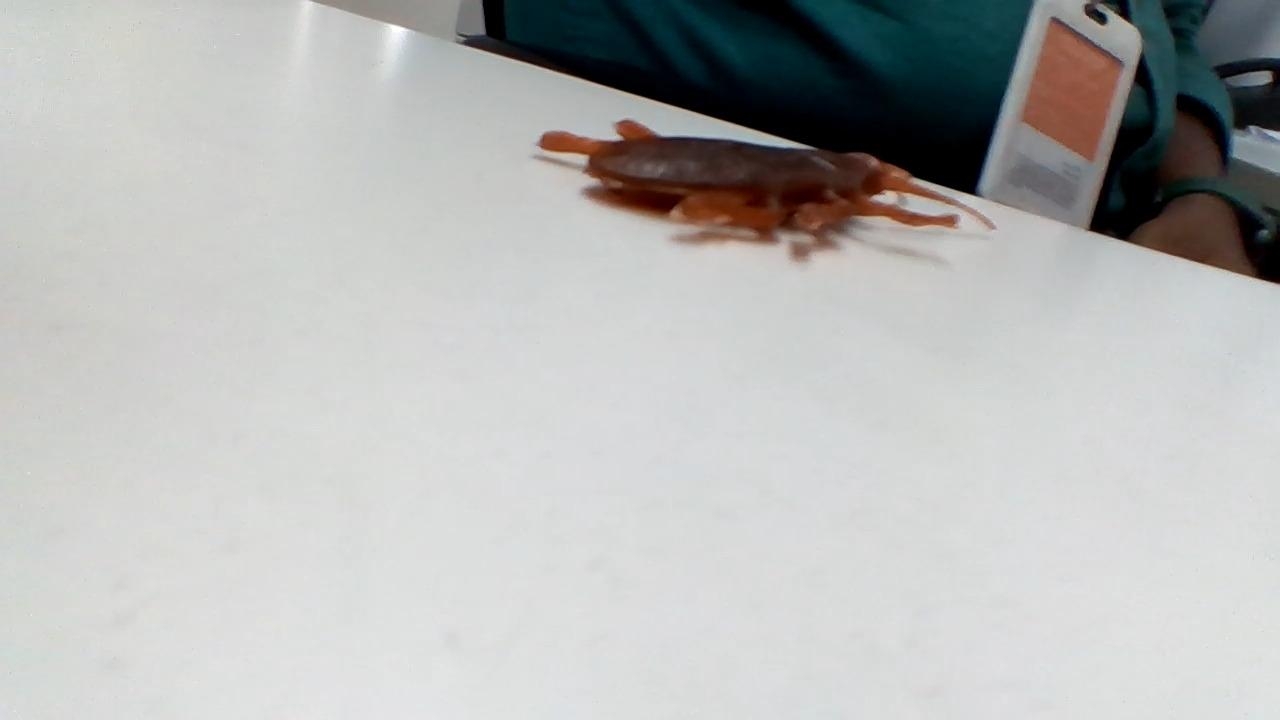cockroach: (528, 90, 993, 261)
